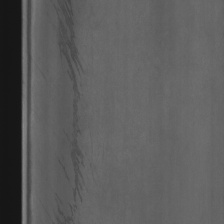water_spot: (52, 3, 93, 217)
